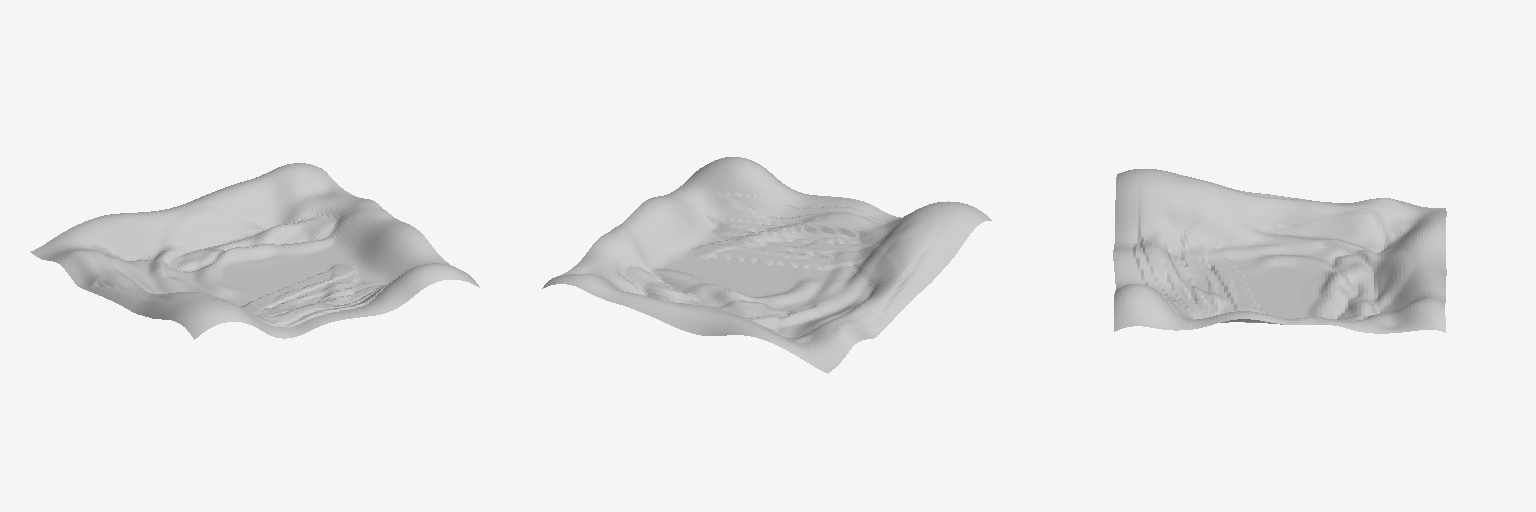
Rendered from map.obj.
3 views of the same model, side by side, from view 1: azimuth 30°, elevation 25°; view 2: azimuth 150°, elevation 25°; view 3: azimuth 270°, elevation 25° (orthographic).
Parts seen in each view (by area): view 1: Plane; view 2: Plane; view 3: Plane.
Boxes of the visible parts, box(x1,y1,x2,y2) form: Plane: box(30, 163, 479, 339); Plane: box(542, 157, 991, 373); Plane: box(1113, 169, 1446, 333).
Bounding box in the file's own units: 202 × 35.64 × 203.